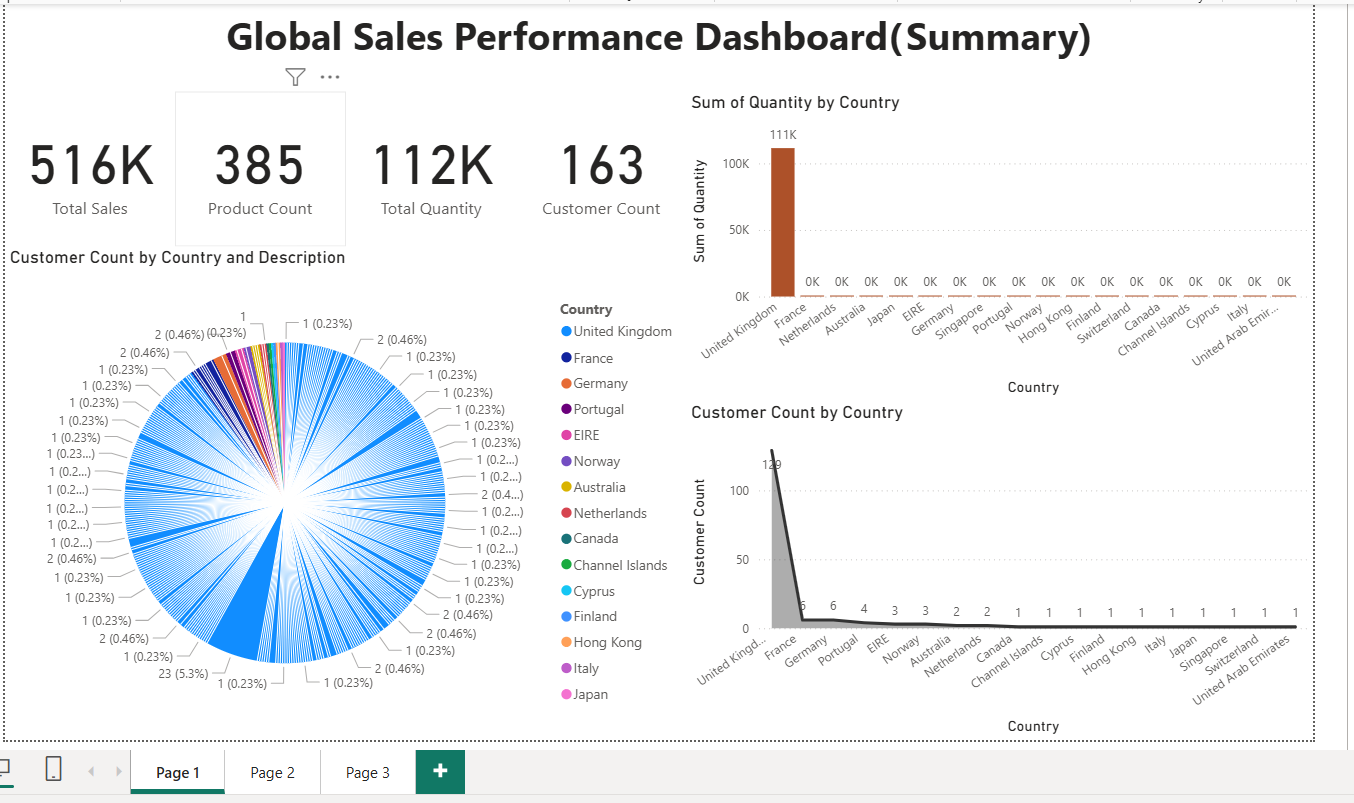

The dashboard page shown, as its layout file describes it:
{"tool":"powerbi","page":{"name":"Page 1","canvas":[1280,720],"ordinal":0},"visuals":[{"type":"textbox","box":[0,0,1280.3,86.1],"z":0},{"type":"card","fields":{"Values":["Orders.Total Sales"]},"box":[0,86.1,166.8,150.6],"z":1000},{"type":"card","fields":{"Values":["Orders.Total Quantity"]},"box":[333.5,86.1,166.8,150.6],"z":2000},{"type":"card","fields":{"Values":["Orders.Customer Count"]},"box":[500.3,86.1,166.8,150.6],"z":3000},{"type":"card","fields":{"Values":["Orders.Product Count"]},"box":[166.8,86.1,166.8,150.6],"z":4000},{"type":"lineChart","fields":{"Category":["Orders.Country"],"Y":["Orders.Customer Count"]},"box":[667,388.7,613.2,330.8],"z":4001},{"type":"columnChart","fields":{"Category":["Orders.Country"],"Y":["Sum(Orders.Quantity)"]},"box":[667,86.1,613.2,302.6],"z":4002},{"type":"pieChart","fields":{"Category":["Orders.Country"],"Y":["Orders.Customer Count"],"Series":["Orders.Description"]},"box":[0,236.7,667,482.8],"z":4003}]}

Visuals, with their boxes on the page's 1280x720 design canvas (x1, y1, x2, y2). These are canvas units, not pixel positions in the 1354x803 screenshot, which may show the page scaled, cropped or inside an application window:
textbox: (x1=0, y1=0, x2=1280, y2=86)
card - Orders.Total Sales: (x1=0, y1=86, x2=167, y2=237)
card - Orders.Total Quantity: (x1=334, y1=86, x2=500, y2=237)
card - Orders.Customer Count: (x1=500, y1=86, x2=667, y2=237)
card - Orders.Product Count: (x1=167, y1=86, x2=334, y2=237)
lineChart - Orders.Country x Orders.Customer Count: (x1=667, y1=389, x2=1280, y2=720)
columnChart - Orders.Country x Sum(Orders.Quantity): (x1=667, y1=86, x2=1280, y2=389)
pieChart - Orders.Country x Orders.Customer Count: (x1=0, y1=237, x2=667, y2=720)
